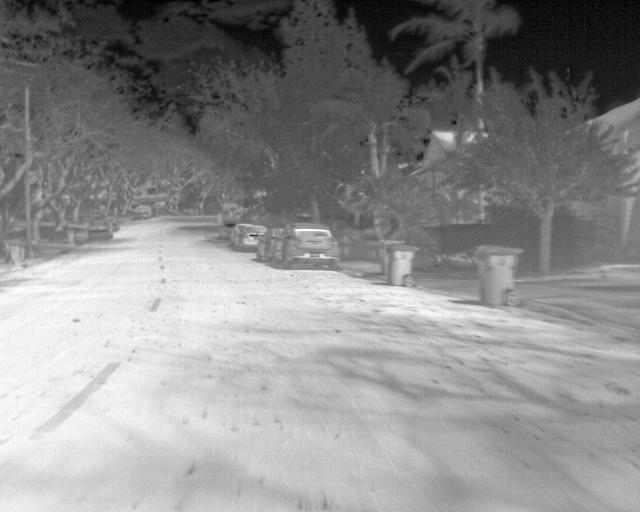car: (276, 221, 340, 272), (229, 221, 264, 251), (255, 227, 283, 261), (85, 217, 113, 240), (130, 203, 153, 219)
